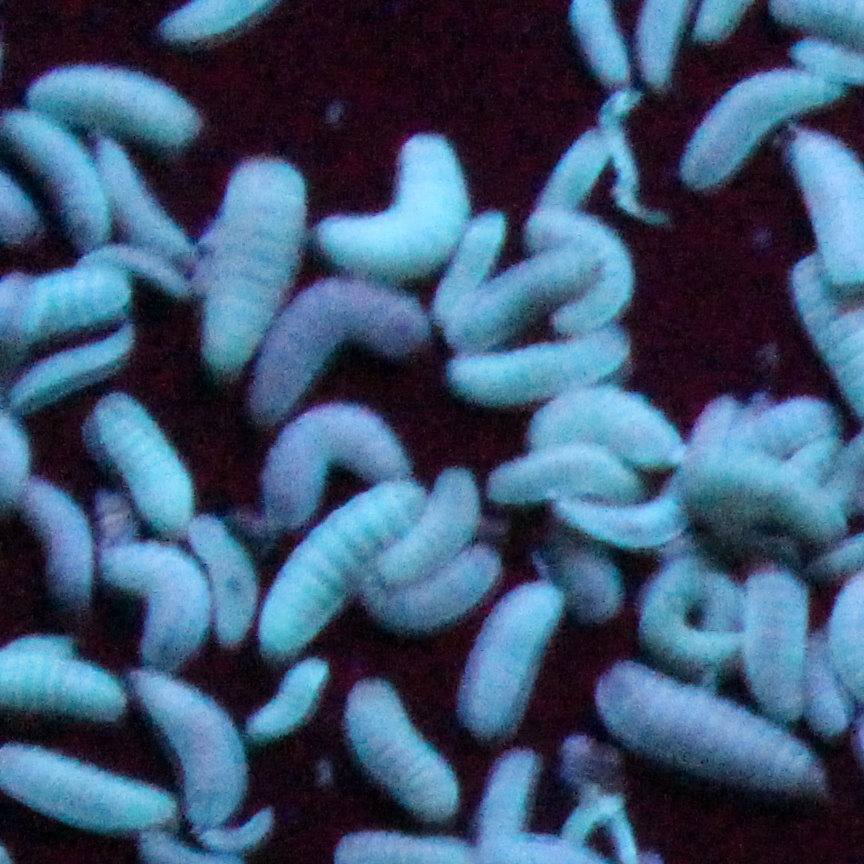larve: (585, 659, 825, 796), (267, 479, 414, 650), (318, 127, 470, 278), (258, 287, 430, 419), (198, 161, 300, 370), (343, 676, 458, 825), (692, 70, 841, 183), (25, 61, 198, 150), (1, 750, 178, 834), (445, 325, 625, 407), (518, 381, 689, 467), (465, 576, 558, 734), (674, 448, 839, 534), (96, 543, 207, 670), (263, 410, 405, 507), (96, 134, 198, 263), (150, 678, 243, 818), (454, 248, 596, 339), (527, 218, 641, 330), (640, 559, 747, 665), (98, 401, 187, 525), (747, 538, 807, 714), (550, 479, 621, 623), (376, 550, 498, 628), (12, 327, 136, 403), (21, 487, 89, 612), (407, 463, 472, 574), (198, 519, 256, 641), (438, 212, 499, 327), (545, 127, 612, 218), (250, 661, 327, 728)
